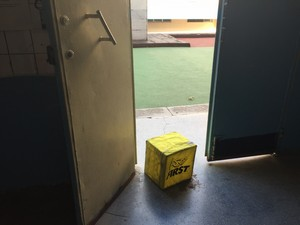cube: (146, 130, 195, 190)
